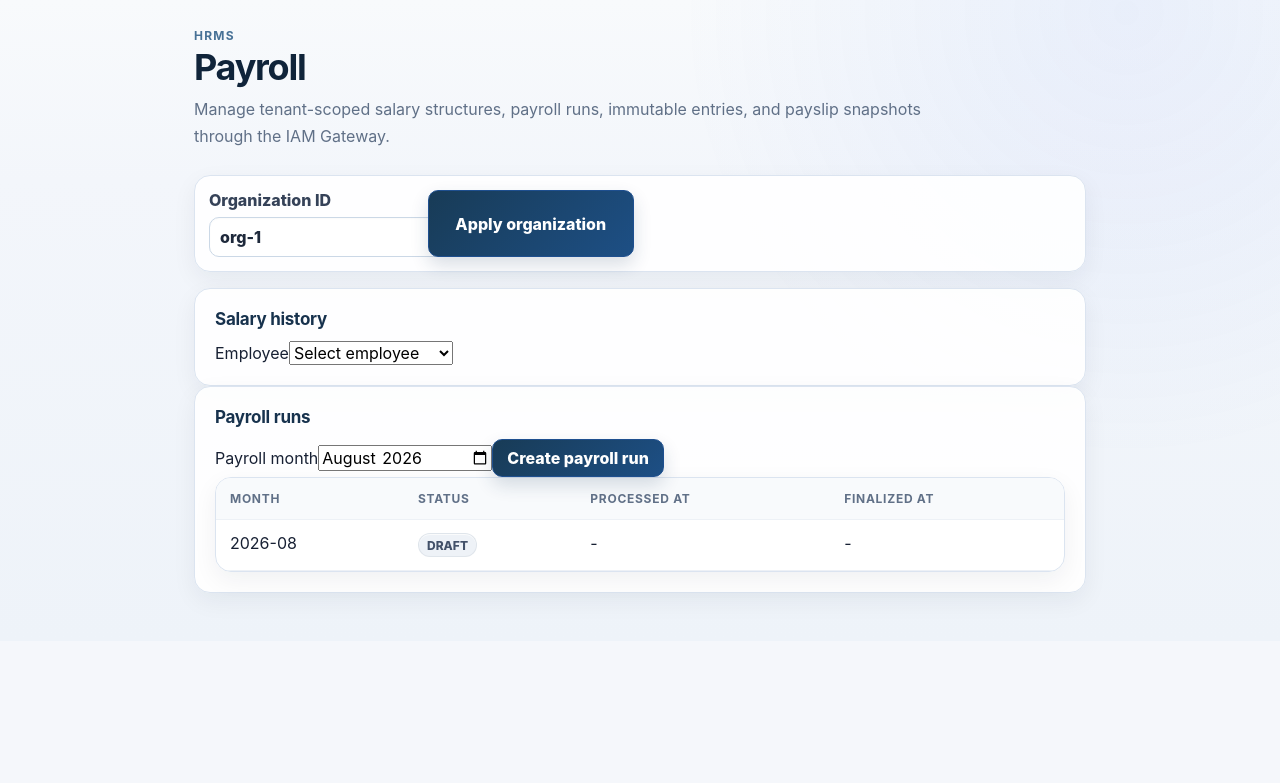
PayrollPage › offers process only for a DRAFT payroll run
The width and height of the screenshot is (1280, 783).
Click the text "2026-08" at (640, 545), box [216,520,1064,571]
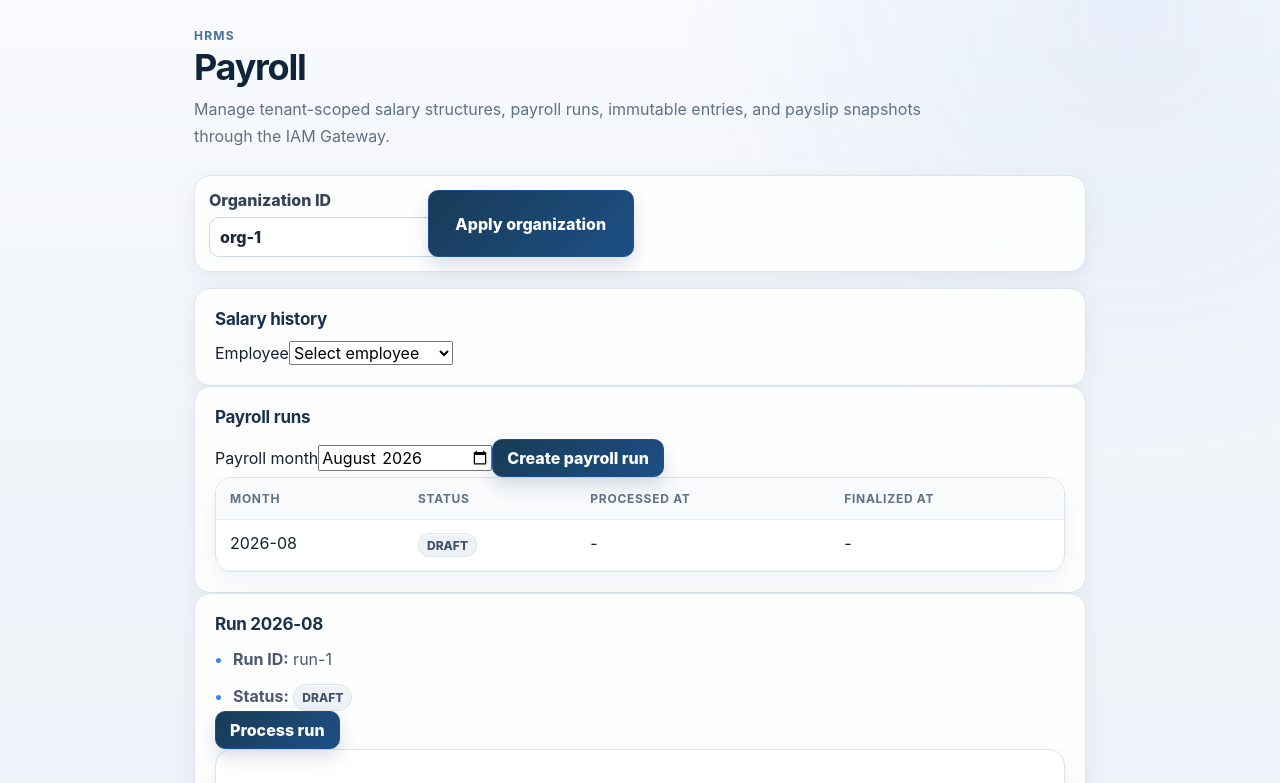
Result: the button "Process run" is shown at [215,711,340,749]
